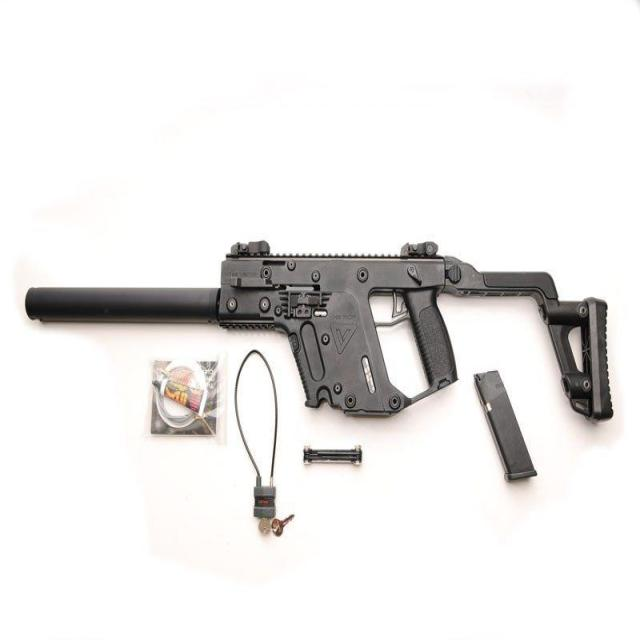SMG: (22, 242, 612, 420)
